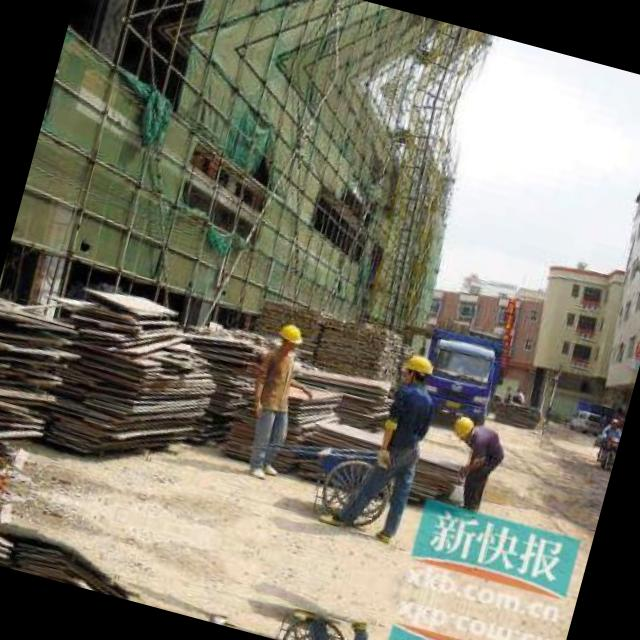helmet: (398, 346, 437, 384), (270, 319, 306, 355), (444, 409, 479, 445)
